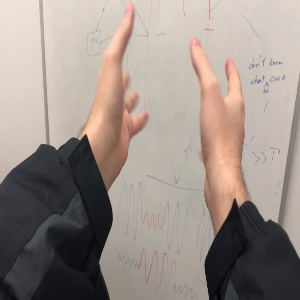hand: (190, 38, 245, 185), (91, 3, 149, 138)
